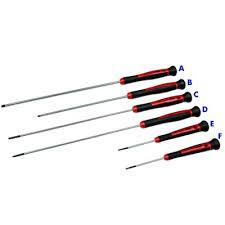screwdriver: (11, 104, 200, 156), (7, 90, 191, 139), (0, 63, 178, 107), (0, 63, 177, 107), (36, 78, 185, 117), (37, 78, 185, 117), (124, 136, 220, 169), (116, 119, 209, 151)
